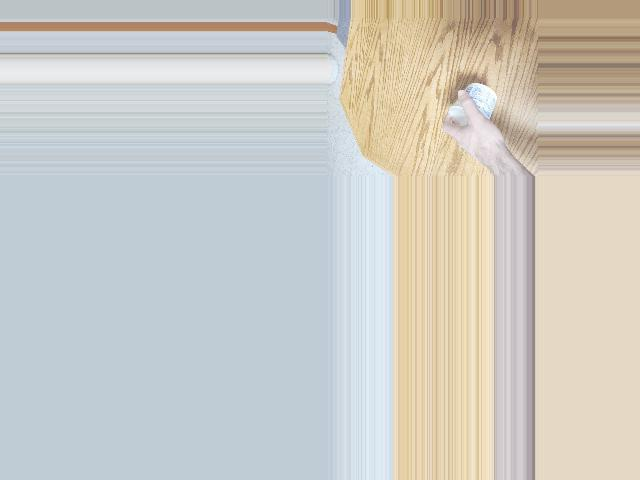cotage: (447, 83, 493, 124)
